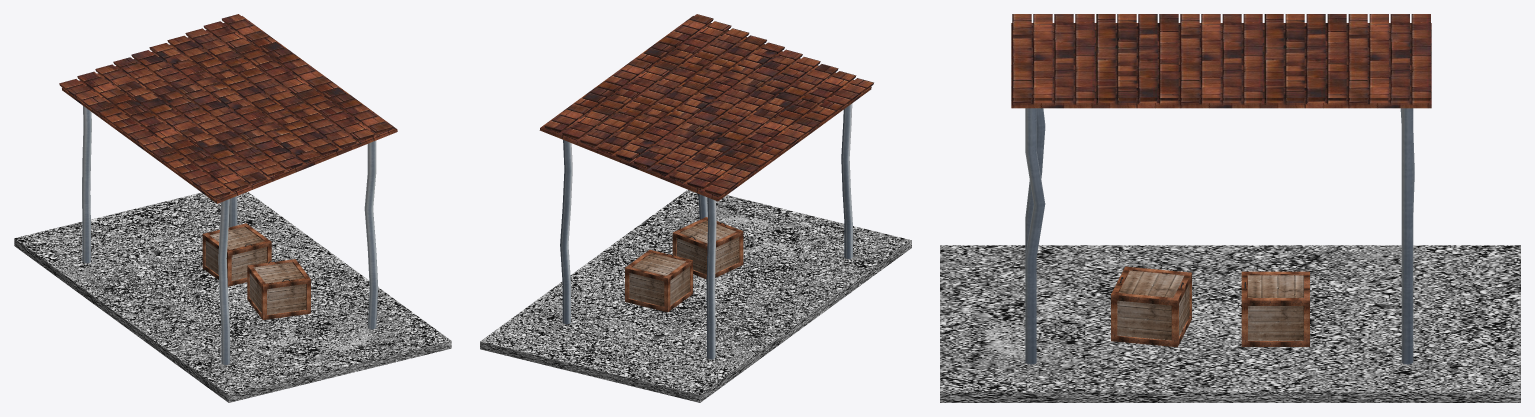
Rendered from مظلة.FBX.
3 views of the same model, side by side, from view 1: azimuth 30°, elevation 25°; view 2: azimuth 150°, elevation 25°; view 3: azimuth 270°, elevation 25° (orthographic). The views are drawn at different scales.
Parts seen in each view (by area): view 1: Box001, Box002, Group002, Cylinder005, Cylinder004, Box004, Cylinder001, Box003; view 2: Box001, Box002, Group002, Cylinder006, Cylinder001, Box003, Cylinder004, Box004; view 3: Box001, Box002, Group002, Cylinder006, Cylinder005, Box004, Box003, Cylinder004.
Boxes of the visible parts, <box> form: Box001: <box>14,192,451,402</box>; Box002: <box>59,14,397,203</box>; Group002: <box>205,227,306,314</box>; Cylinder005: <box>364,140,378,329</box>; Cylinder004: <box>218,199,229,364</box>; Box004: <box>247,259,310,319</box>; Cylinder001: <box>82,106,91,263</box>; Box003: <box>202,223,271,286</box>; Box001: <box>480,189,911,402</box>; Box002: <box>539,14,873,201</box>; Group002: <box>629,220,739,306</box>; Cylinder006: <box>560,140,572,324</box>; Cylinder001: <box>706,197,716,359</box>; Box003: <box>625,250,692,312</box>; Cylinder004: <box>841,103,852,258</box>; Box004: <box>672,217,743,279</box>; Box001: <box>940,245,1520,402</box>; Box002: <box>1011,14,1431,108</box>; Group002: <box>1117,270,1303,340</box>; Cylinder006: <box>1401,108,1413,364</box>; Cylinder005: <box>1025,108,1045,364</box>; Box004: <box>1111,266,1191,347</box>; Box003: <box>1241,271,1309,346</box>; Cylinder004: <box>1025,108,1045,254</box>.
Bounding box in the file's own units: 300 × 270 × 500.
6 materials, 5 textured.
